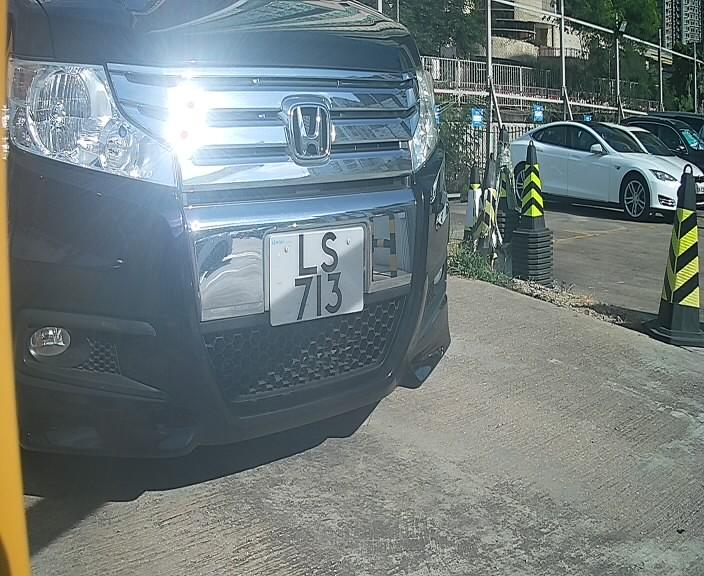Car: (1, 3, 507, 471)
License Plate: (261, 206, 378, 330)
